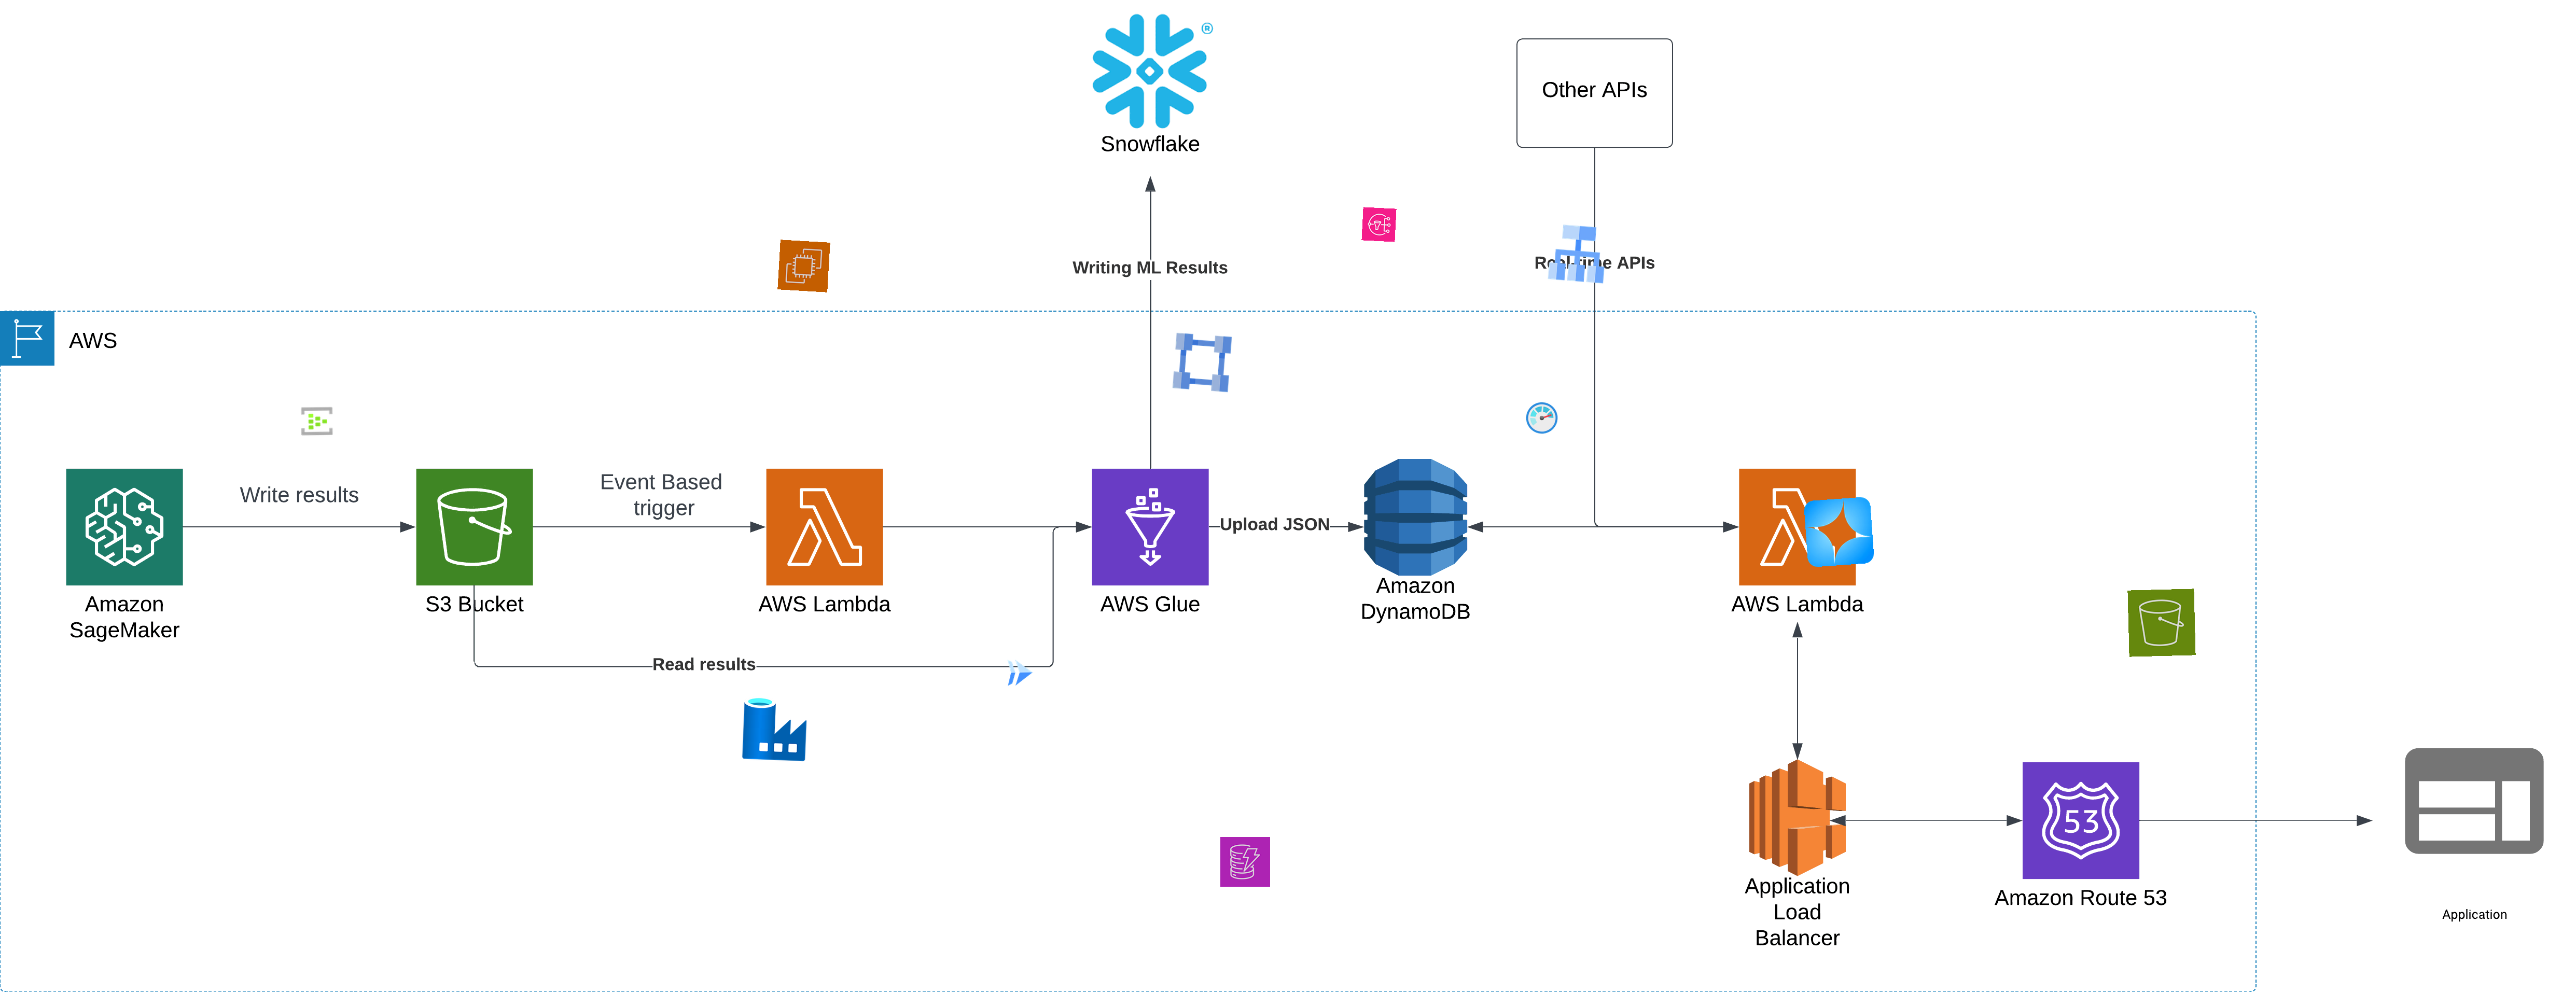aws_amazon_dynamodb: (1219, 836, 1270, 887)
aws_amazon_ec2: (777, 240, 830, 292)
aws_amazon_simple_notification_service: (1362, 207, 1396, 241)
aws_amazon_simple_storage_service: (2127, 588, 2197, 657)
azure_data_factories: (739, 693, 810, 764)
azure_event_hubs: (299, 404, 333, 439)
azure_monitor: (1525, 401, 1559, 435)
azure_openai: (1804, 496, 1874, 568)
gcp_cloud_load_balancing: (1543, 218, 1613, 289)
gcp_cloud_run: (1002, 655, 1037, 690)
gcp_virtual_private_cloud: (1166, 327, 1239, 397)
